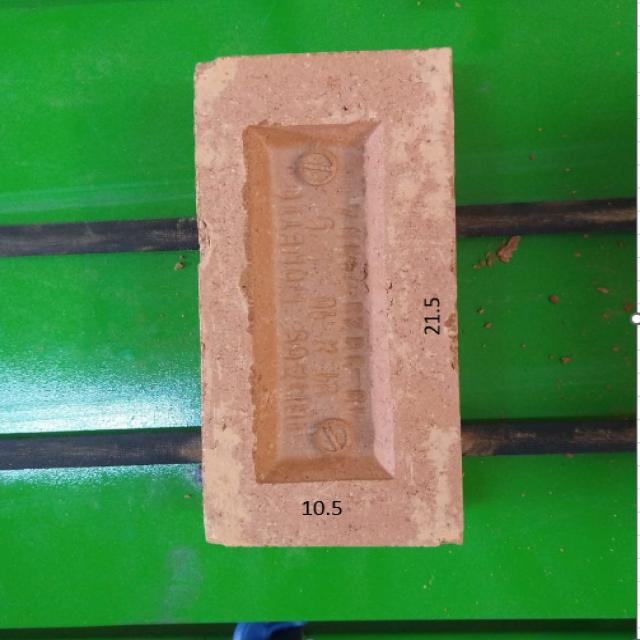bricks: (185, 47, 466, 564)
